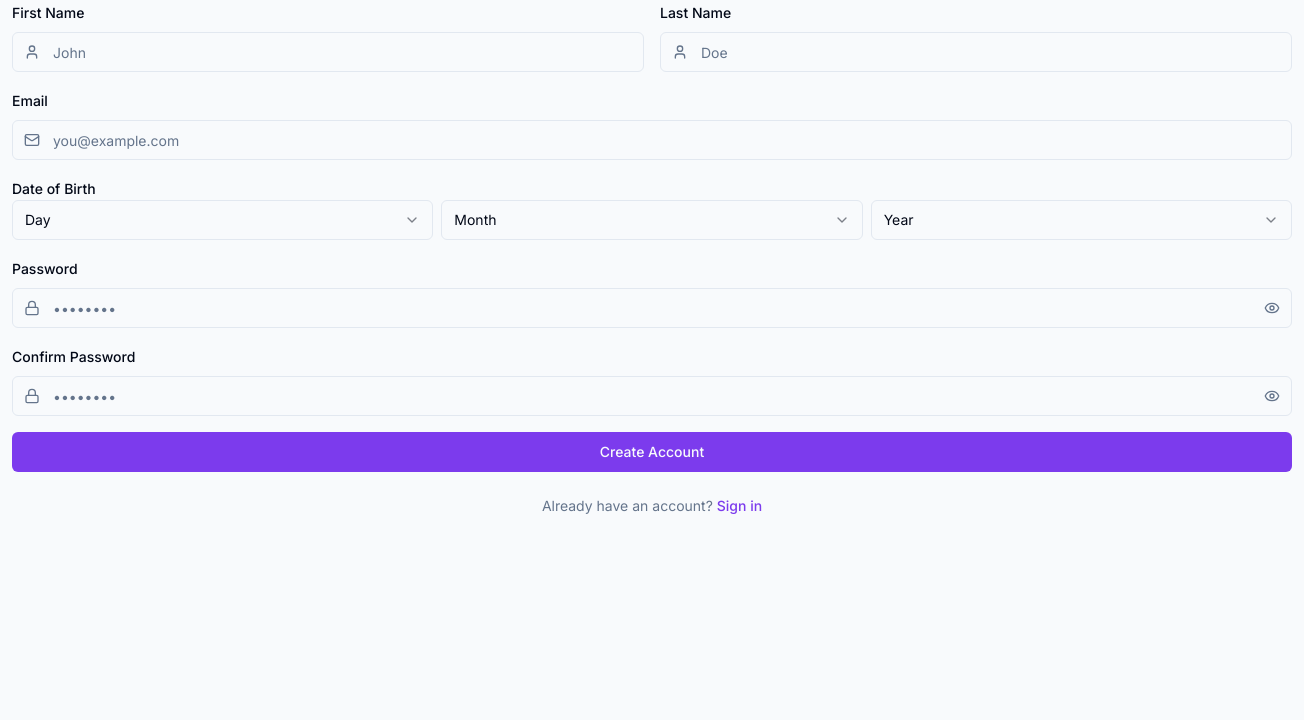
Test: SignupForm › should show required field errors on submit if fields are empty
Click the button "Create Account": (652, 452) [12,432,1292,472]
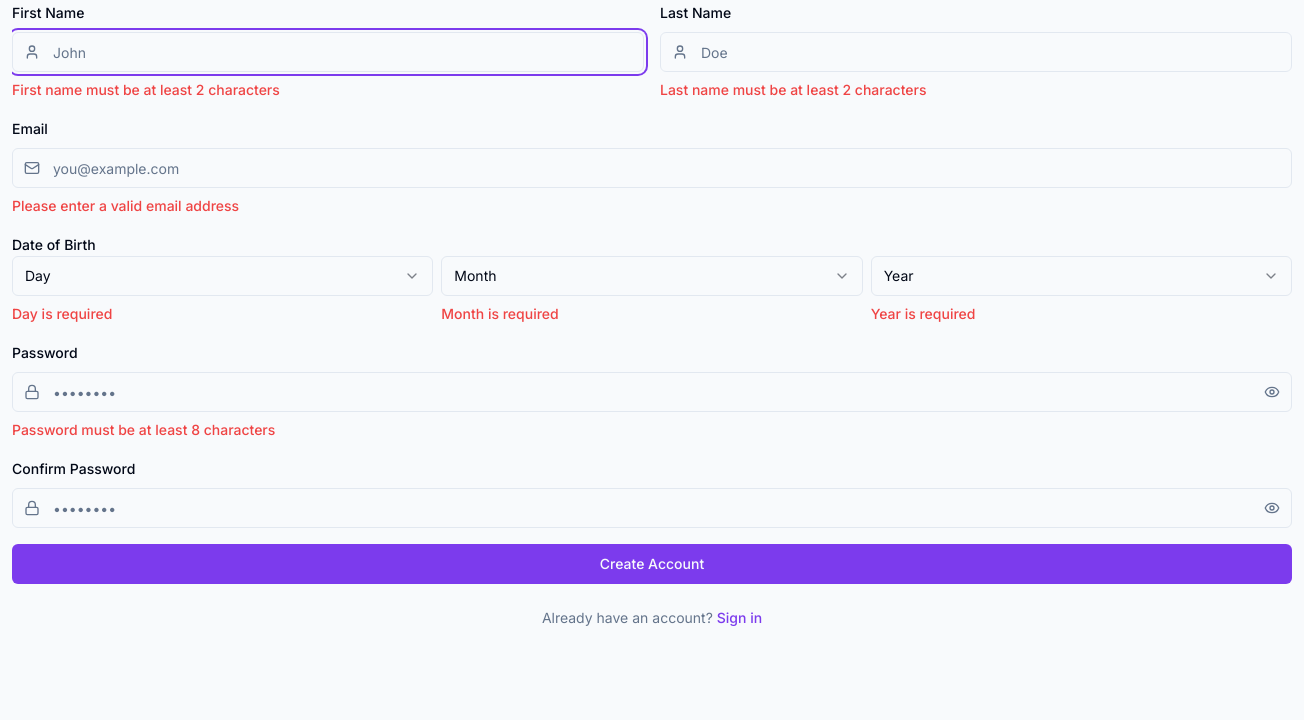
Check: the text "First name must be at least 2 characters" is shown, box [12,81,280,98]
Check: the text "Last name must be at least 2 characters" is shown, box [660,81,926,98]
Check: the text "Please enter a valid email address" is shown, box [12,197,239,214]
